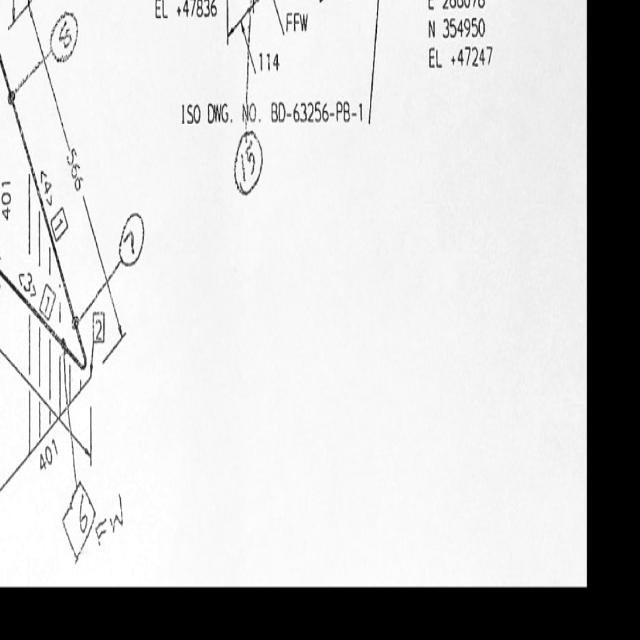Item number: (51, 204, 69, 242), (91, 308, 107, 346)
Measrement: (27, 4, 126, 345), (152, 1, 220, 24), (1, 173, 14, 229)
Weld number: (232, 128, 265, 199), (48, 7, 79, 66), (119, 208, 146, 269)
other: (178, 96, 369, 131), (426, 1, 495, 73), (152, 1, 221, 24)
